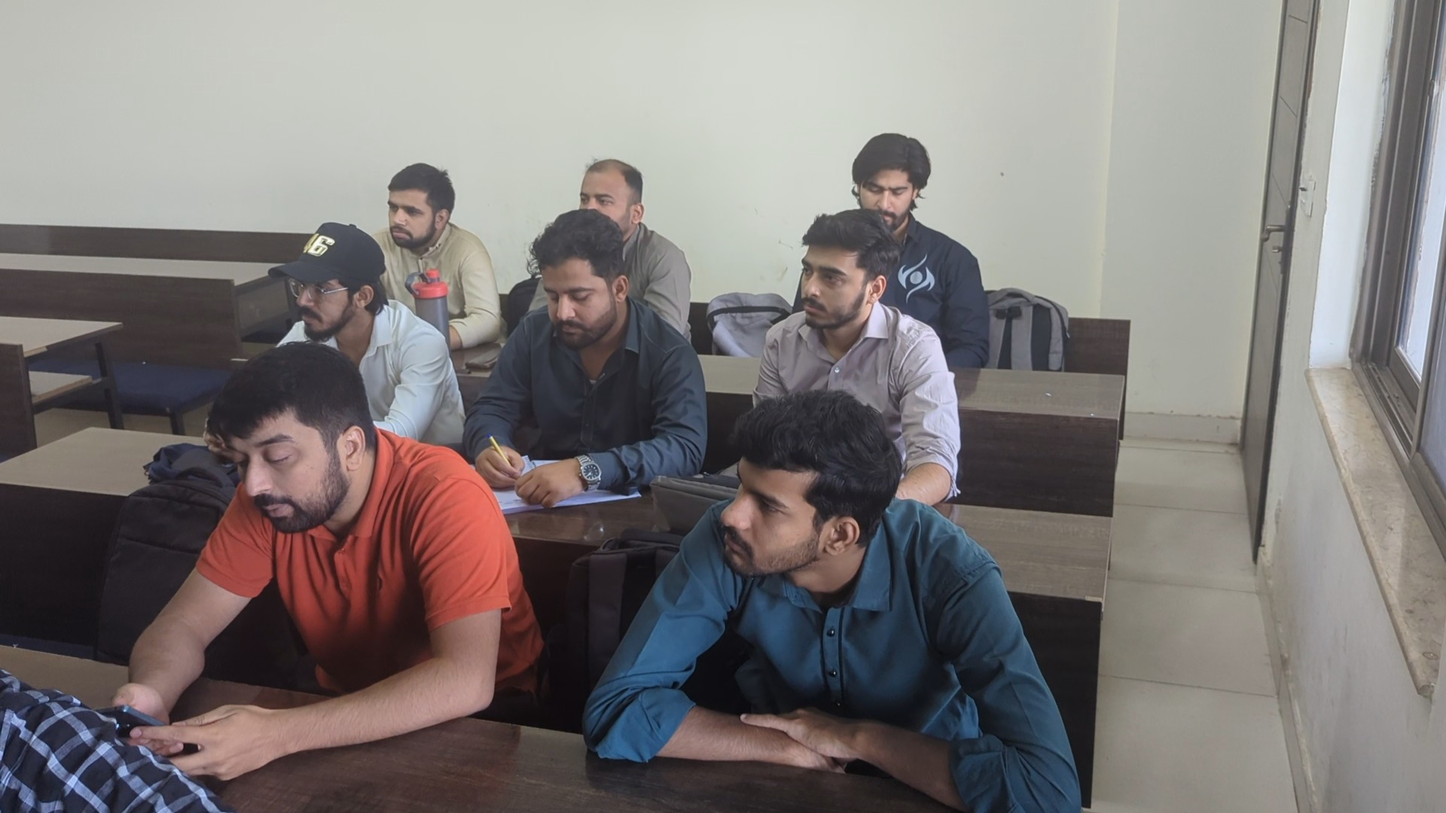look_forward: (722, 413, 865, 607), (784, 226, 935, 403), (282, 213, 389, 360), (395, 162, 476, 281), (573, 152, 658, 233)
using_device: (98, 382, 411, 743), (842, 133, 1015, 340)
write: (493, 224, 678, 501)
